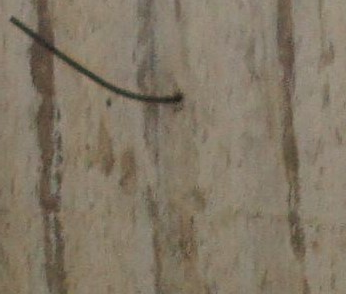Exposed reinforcement: (8, 15, 181, 104)
